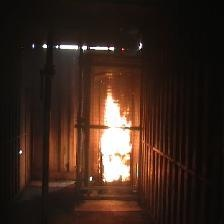fire: (98, 74, 136, 184)
